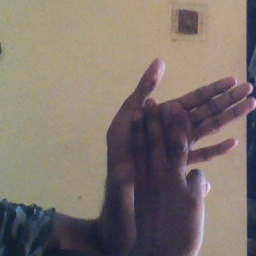M: (105, 54, 256, 215)
